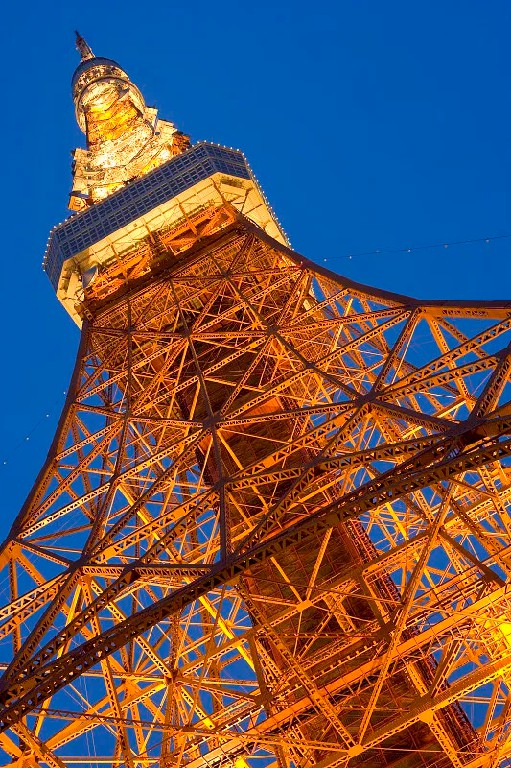Tokyo: (2, 24, 511, 766)
